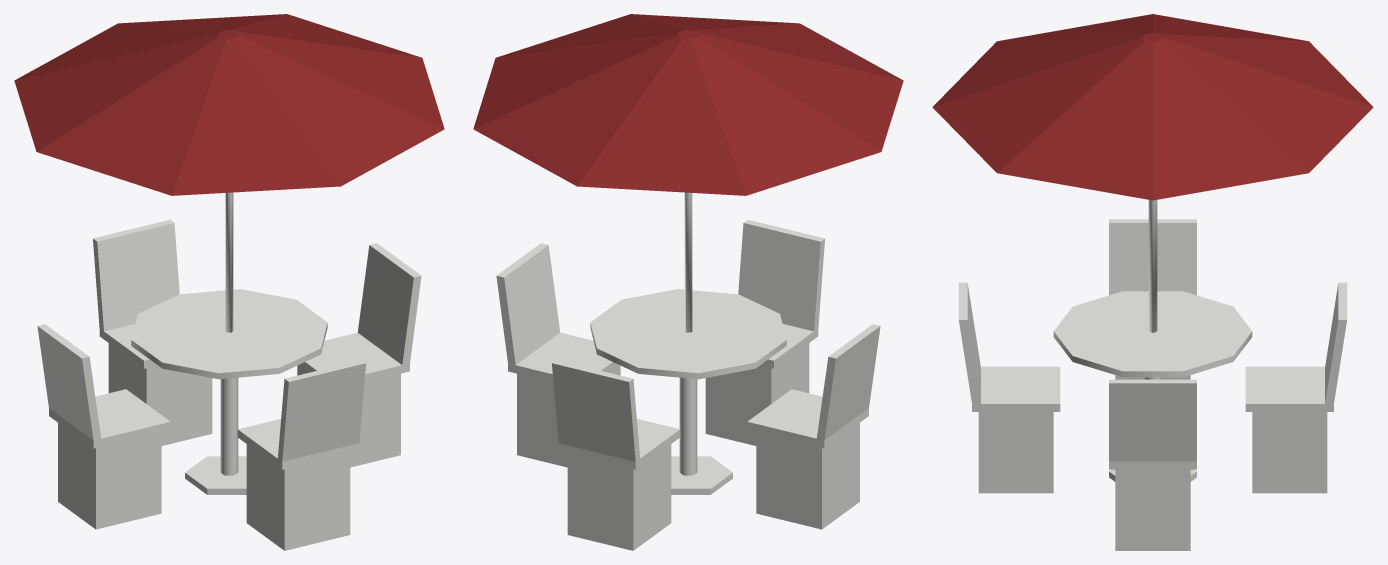
Rendered from patio_set.glb.
3 views of the same model, side by side, from view 1: azimuth 30°, elevation 25°; view 2: azimuth 150°, elevation 25°; view 3: azimuth 270°, elevation 25° (orthographic).
Parts seen in each view (by area): view 1: patio_set; view 2: patio_set; view 3: patio_set.
Part boxes in pixels (x1,y1,x2,y2): patio_set: (14, 14, 444, 550); patio_set: (473, 14, 903, 550); patio_set: (932, 14, 1373, 550).
Size of the model in its own units: 2 by 2.2 by 2.
Materials: 1 (1 with a texture image).
